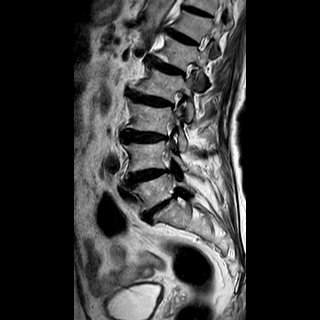LFS1: (178, 57, 201, 84)
